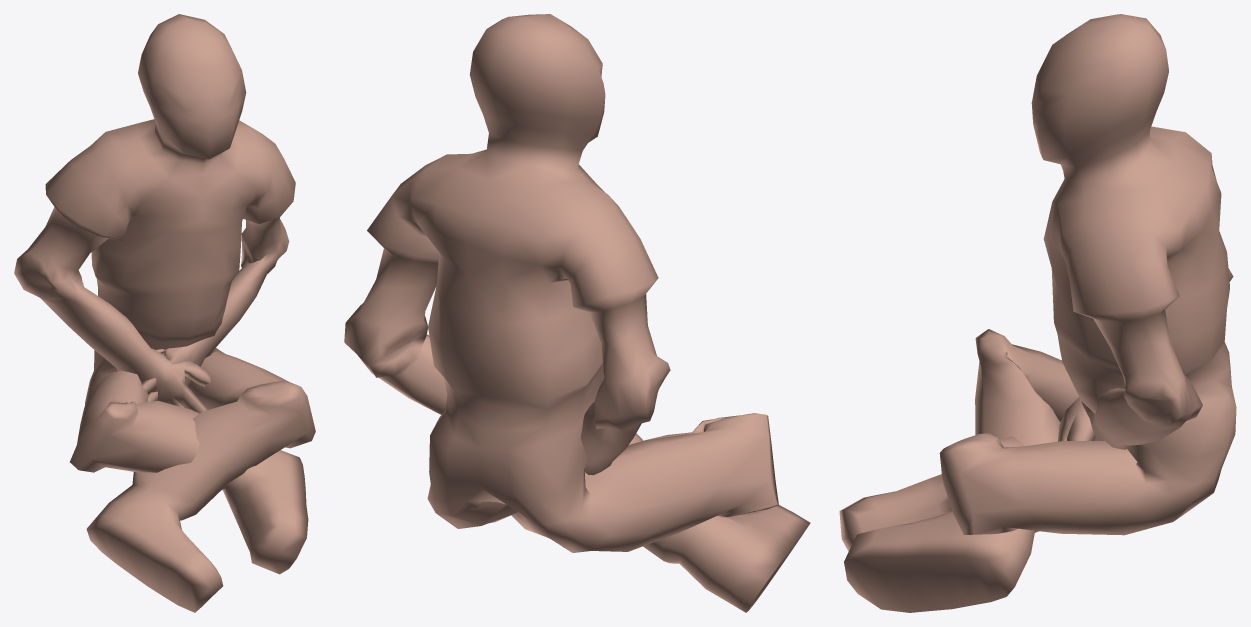
Rendered from kid_sitting.fbx.
3 renders of one model, left to right at view 1: azimuth 30°, elevation 25°; view 2: azimuth 150°, elevation 25°; view 3: azimuth 270°, elevation 25°, orthographic. The views are drawn at different scales.
Parts seen in each view (by area): view 1: RobotHumanoid:robot; view 2: RobotHumanoid:robot; view 3: RobotHumanoid:robot.
Part boxes in pixels (<box>): RobotHumanoid:robot: <box>14,14,315,612</box>; RobotHumanoid:robot: <box>344,14,810,612</box>; RobotHumanoid:robot: <box>839,14,1236,612</box>.
Size of the model in its own units: 5.15 by 8.92 by 5.24.
